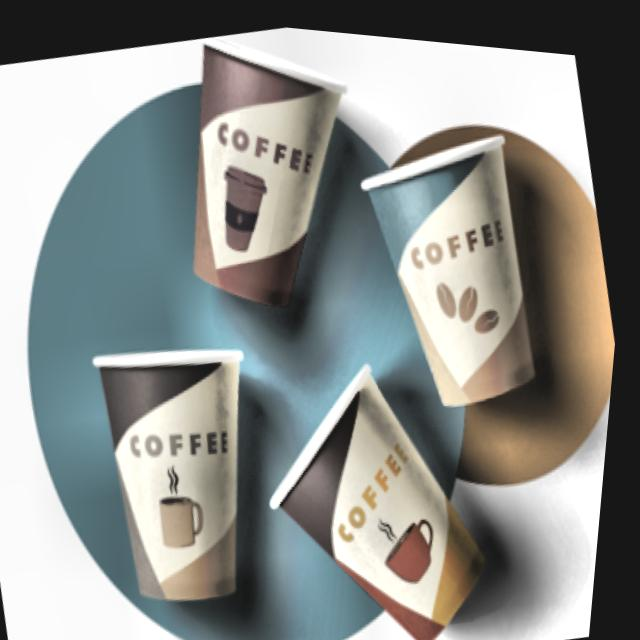Cup: (234, 314, 532, 640), (137, 12, 402, 349), (334, 91, 591, 436), (66, 307, 313, 639)
